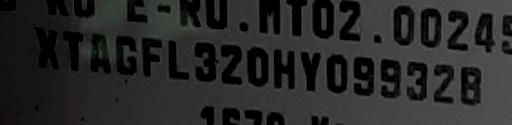letter: (34, 27, 62, 70), (270, 46, 298, 89), (458, 61, 484, 106), (86, 30, 112, 73), (244, 45, 270, 88), (402, 59, 428, 102), (164, 39, 190, 80), (192, 41, 218, 82), (324, 52, 350, 93), (430, 63, 456, 104), (352, 54, 376, 97), (62, 30, 86, 71), (114, 34, 138, 75), (220, 43, 244, 84), (378, 57, 402, 98), (140, 36, 162, 77), (300, 50, 320, 93)
